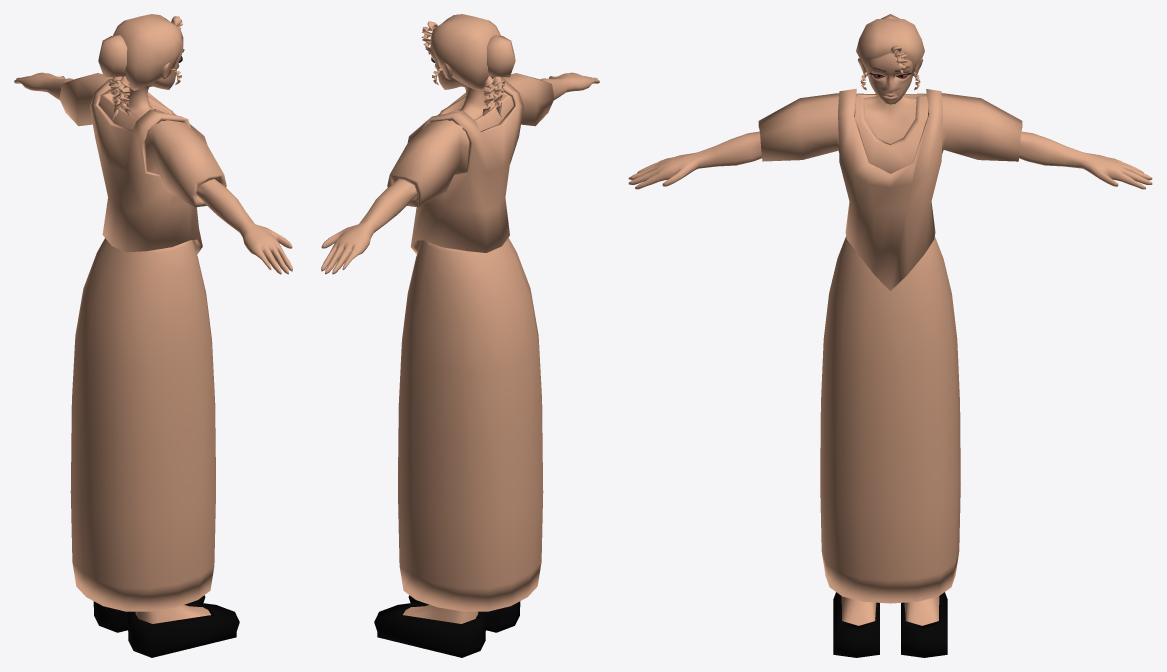
Rendered from NPCWomen1.fbx.
3 views of the same model, side by side, from view 1: azimuth 30°, elevation 25°; view 2: azimuth 150°, elevation 25°; view 3: azimuth 270°, elevation 25° (orthographic).
Parts seen in each view (by area): view 1: skirt, corset, shirt, NPCwoman_body, hairNPCW1, shoes; view 2: skirt, corset, shirt, NPCwoman_body, hairNPCW1, shoes; view 3: skirt, corset, shirt, NPCwoman_body, shoes, hairNPCW1.
Boxes of the visible parts, bbox=[...] form: skirt: bbox=[70, 238, 215, 611]; corset: bbox=[90, 79, 207, 254]; shirt: bbox=[59, 73, 226, 207]; NPCwoman_body: bbox=[14, 48, 292, 623]; hairNPCW1: bbox=[98, 14, 183, 120]; shoes: bbox=[93, 595, 239, 657]; skirt: bbox=[398, 238, 543, 611]; corset: bbox=[407, 79, 523, 254]; shirt: bbox=[387, 73, 554, 207]; NPCwoman_body: bbox=[321, 46, 599, 623]; hairNPCW1: bbox=[421, 14, 515, 118]; shoes: bbox=[374, 595, 520, 657]; skirt: bbox=[820, 236, 960, 603]; corset: bbox=[838, 88, 942, 290]; shirt: bbox=[758, 93, 1022, 173]; NPCwoman_body: bbox=[628, 53, 1152, 625]; shoes: bbox=[833, 592, 947, 657]; hairNPCW1: bbox=[856, 14, 924, 95].
Size of the model in its own units: 321 by 1376 by 1084.
